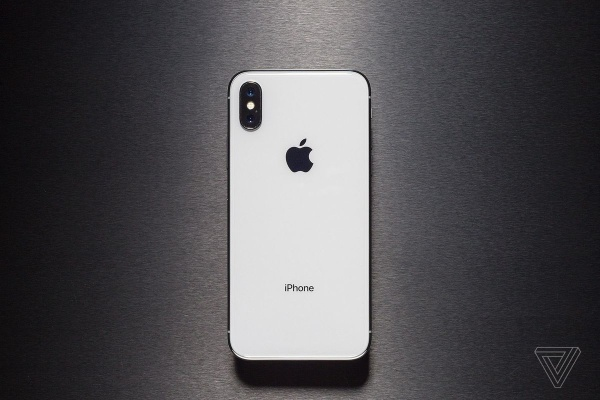apple: (283, 139, 321, 173)
